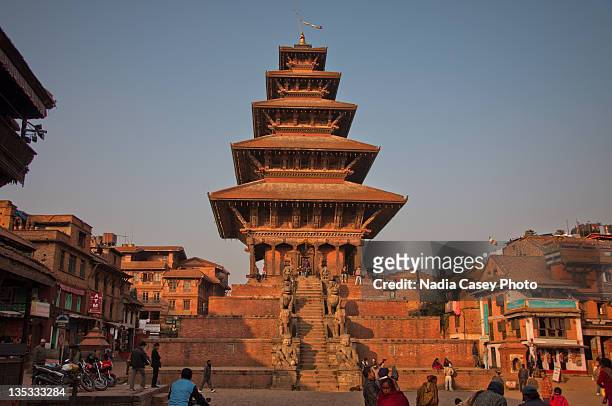nyathapola: (181, 1, 369, 342)
